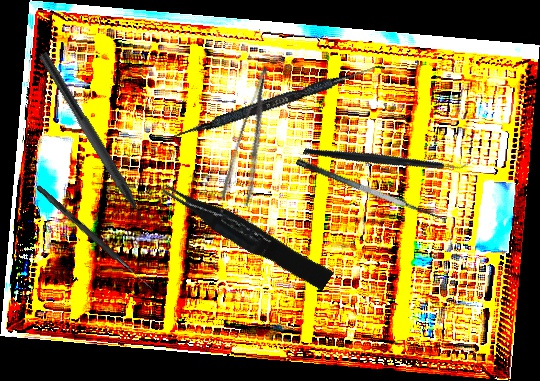Chopper: (24, 49, 161, 246), (302, 90, 474, 223)
Dressing Forceps: (217, 65, 293, 208)
Hook Surgical: (34, 184, 155, 291)
Spatula Surgical: (169, 56, 386, 147), (295, 145, 451, 229)
Tissue Forceps: (159, 170, 335, 298)
